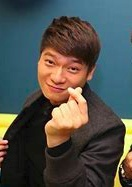oneheart: (50, 88, 93, 131)
